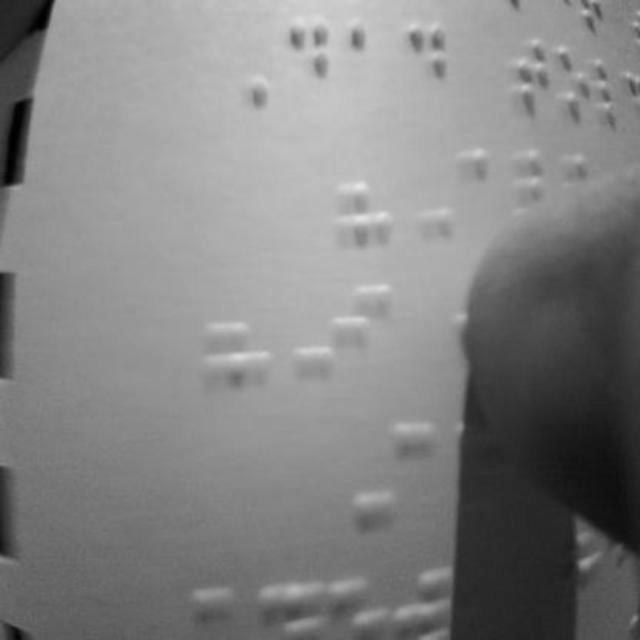braiile: (282, 11, 332, 115), (343, 10, 395, 106), (403, 12, 452, 112)
